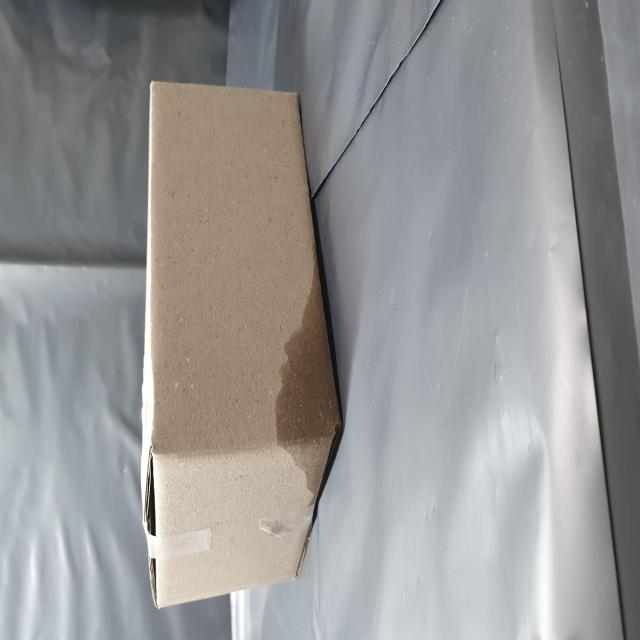wet: (68, 481, 208, 616)
